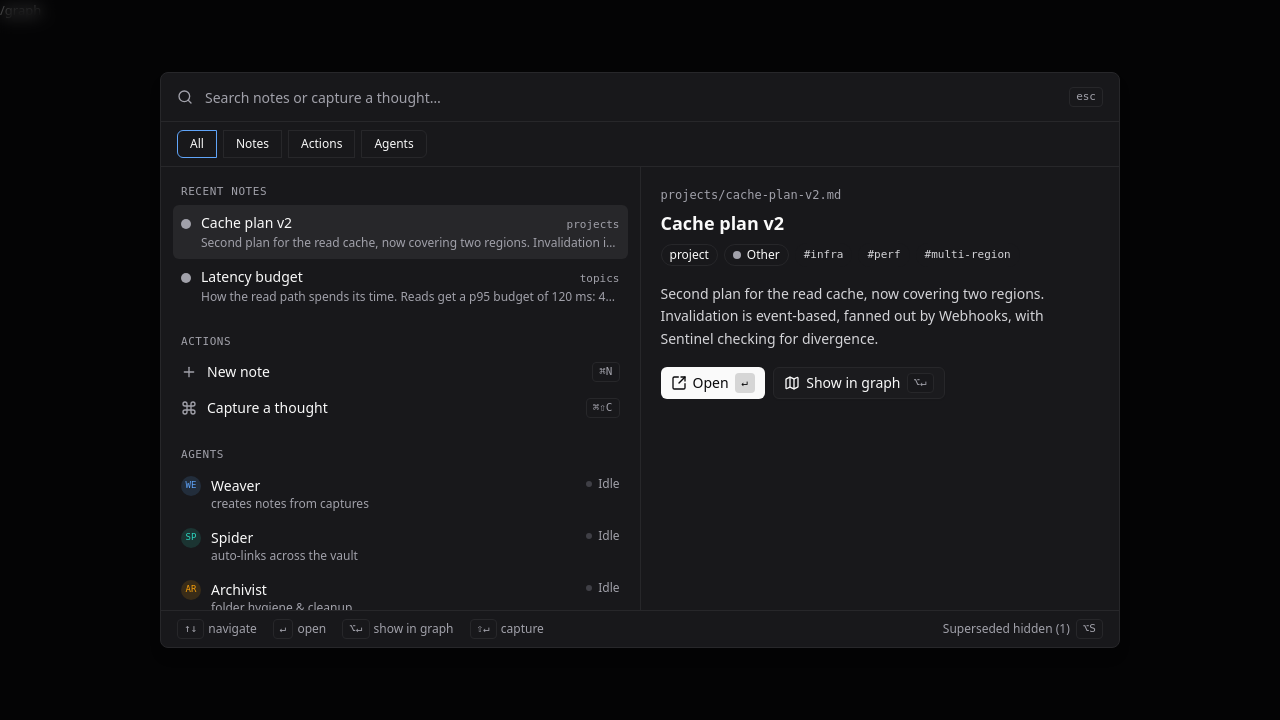
Test: CommandPalette › falls back to title matching when search is unavailable
The width and height of the screenshot is (1280, 720).
Type "latency" into the dropdown named "Search notes, actions and agents".
click(631, 97); type("latency")  # box [205, 73, 1057, 121]
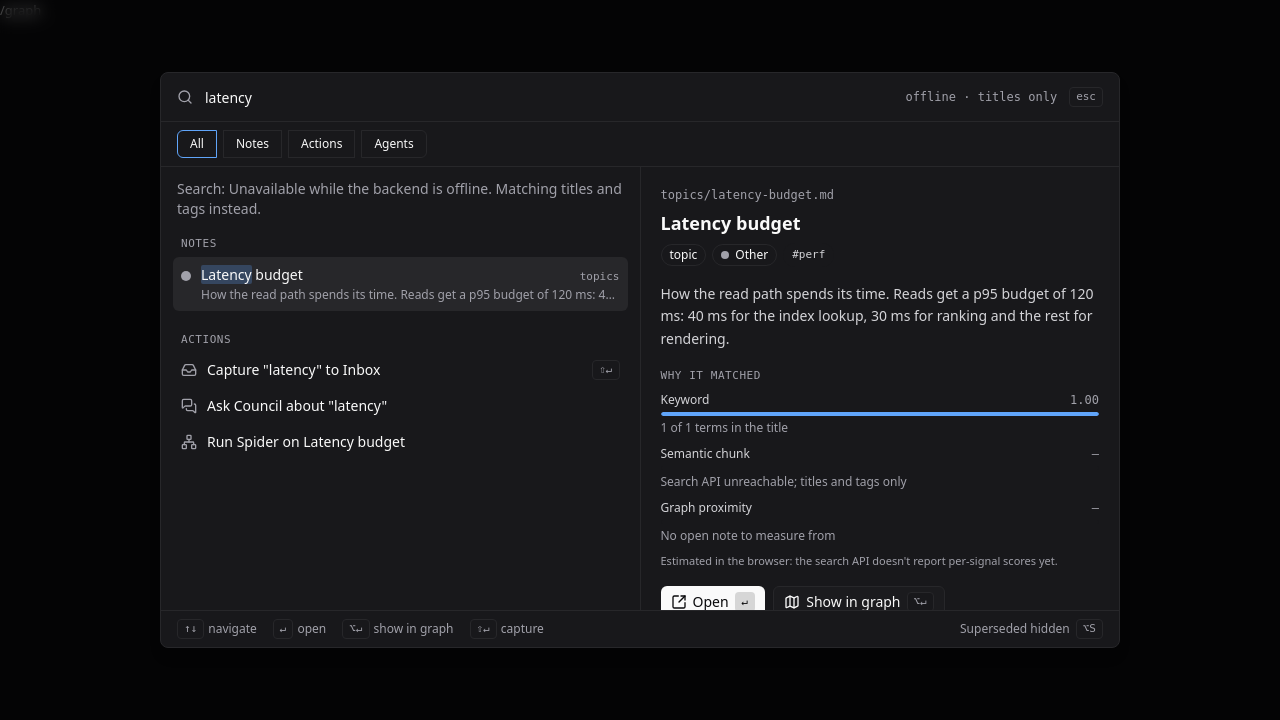
Check: the option "Latency budget" is shown, box [173, 257, 628, 311]
Check: the text "offline · titles only" is shown, box [905, 89, 1057, 105]
Check: the message shows "Matching titles and tags instead", box [177, 179, 622, 218]
